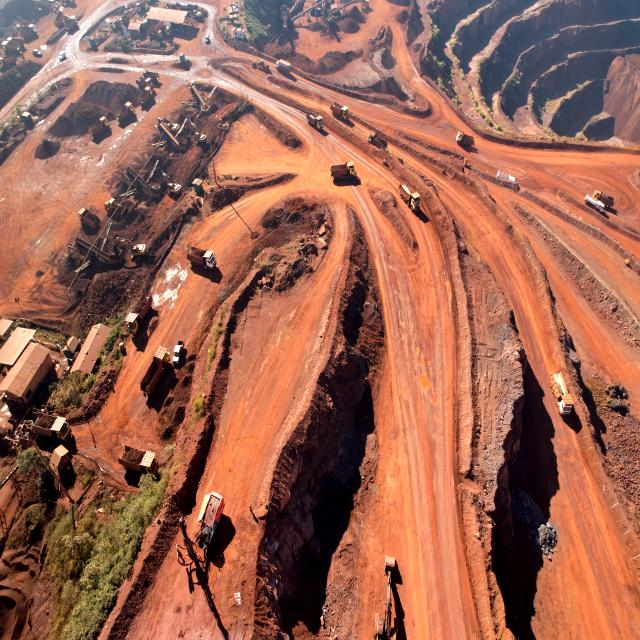Blast rig: (177, 493, 221, 567)
Dumper truck: (116, 446, 158, 479), (142, 348, 170, 390), (124, 290, 152, 332), (36, 412, 72, 444), (331, 157, 372, 184), (551, 370, 574, 418), (188, 246, 217, 274), (78, 206, 99, 231), (398, 184, 419, 208), (116, 101, 135, 122), (90, 116, 111, 135), (307, 109, 323, 132), (137, 70, 159, 86), (146, 22, 162, 42), (3, 36, 24, 51), (456, 130, 474, 146), (139, 86, 153, 106), (367, 134, 387, 148), (55, 6, 68, 26), (23, 22, 36, 42), (156, 21, 172, 37), (334, 103, 350, 118), (1, 53, 16, 68), (594, 191, 612, 202), (66, 16, 78, 31)
Excavator: (367, 557, 435, 640), (154, 166, 182, 198), (113, 236, 146, 261), (188, 117, 208, 146)
car: (35, 46, 42, 58), (59, 50, 66, 61)
